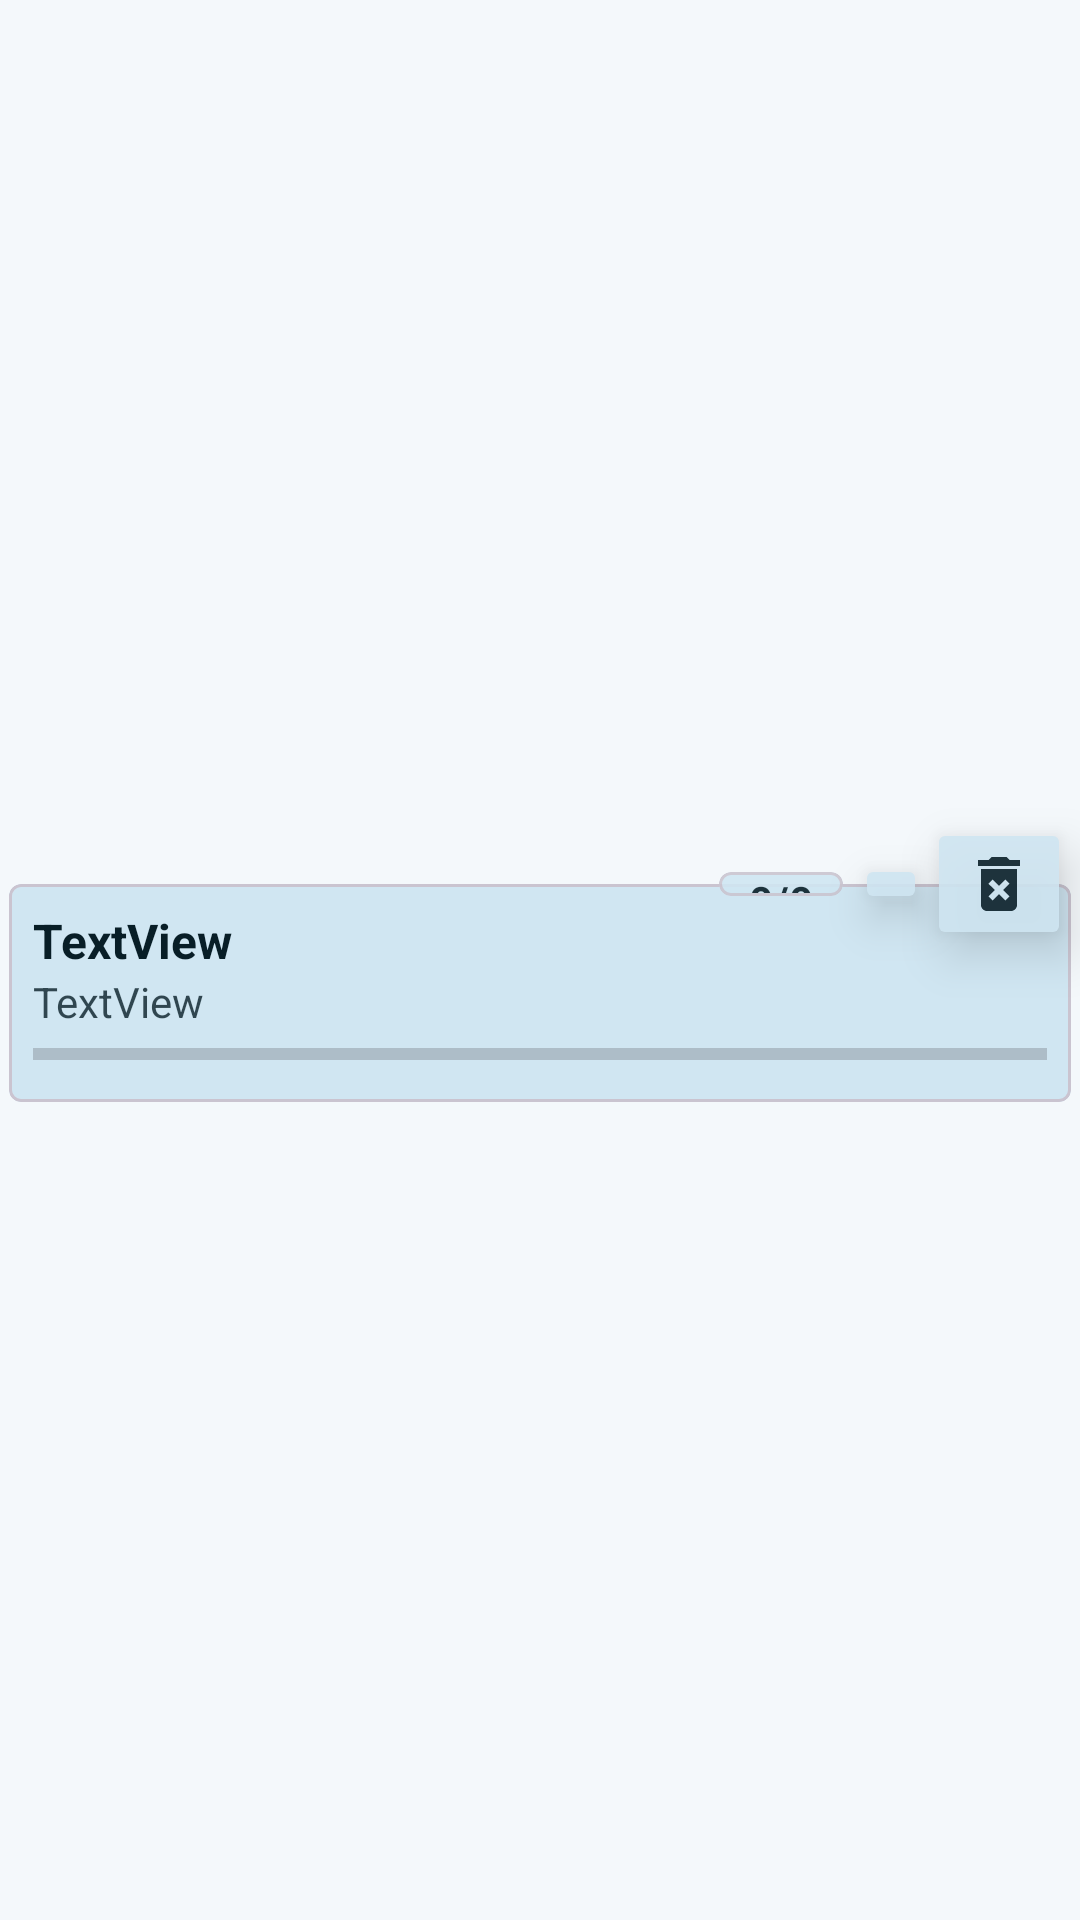

Point at icon controls on the screen. Image size 1080x1920, points as (x=x, y=y).
Delete: (x=999, y=893)
